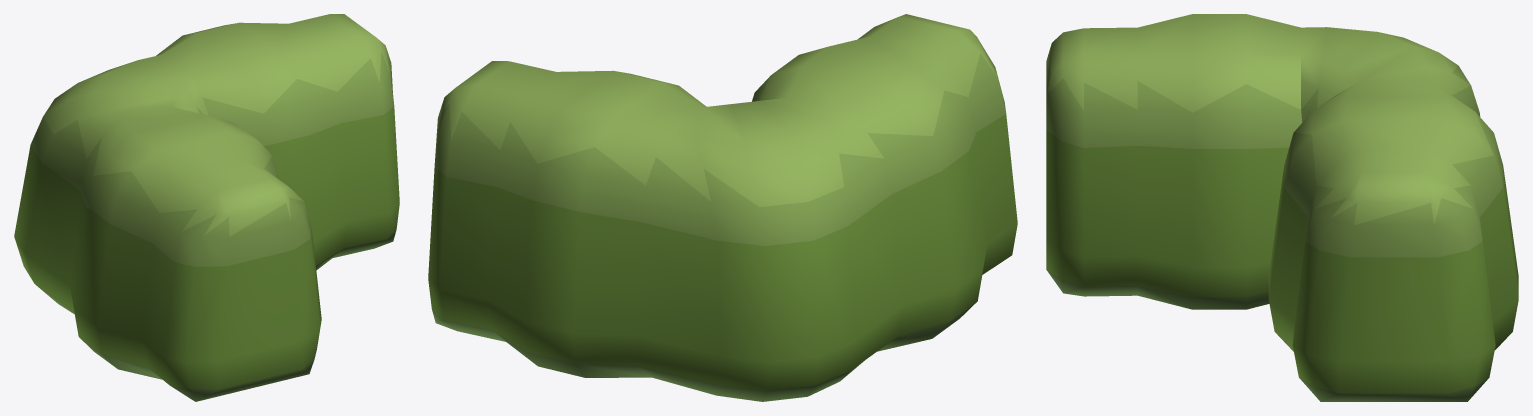
Rendered from itch_tiny_pretty_park_hedge_corner.glb.
The picture shows the model from 3 angles, left to right: view 1: azimuth 30°, elevation 25°; view 2: azimuth 150°, elevation 25°; view 3: azimuth 270°, elevation 25°; orthographic projection. The views are drawn at different scales.
Parts seen in each view (by area): view 1: hedge_corner; view 2: hedge_corner; view 3: hedge_corner.
Part boxes in pixels (x1=…): hedge_corner: x1=14, y1=14, x2=399, y2=401; hedge_corner: x1=428, y1=14, x2=1017, y2=401; hedge_corner: x1=1046, y1=14, x2=1518, y2=401.
Bounding box in the file's own units: 0.9599 × 0.5236 × 0.96.
